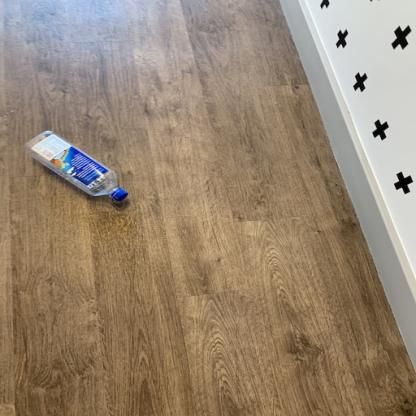trash: (26, 131, 128, 202)
